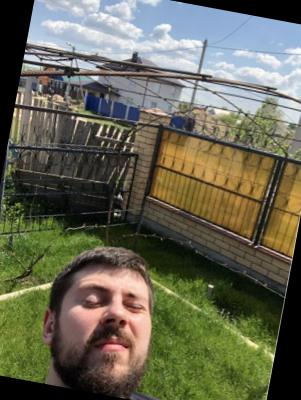without_mask: (54, 271, 160, 400)
